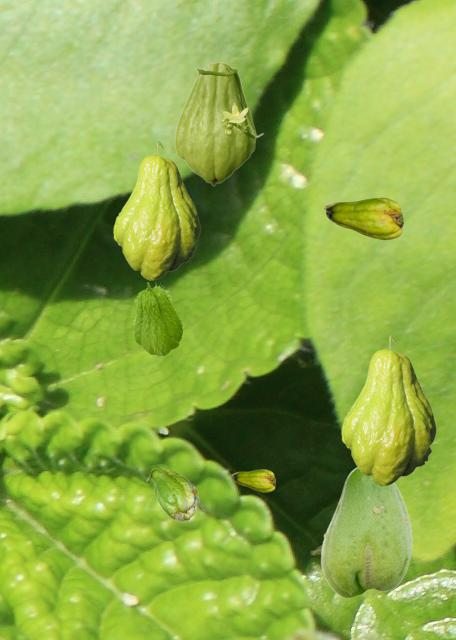sayote: (341, 334, 435, 485), (113, 141, 199, 279), (320, 467, 411, 597), (174, 62, 263, 185), (132, 281, 183, 355), (322, 197, 402, 239), (146, 464, 203, 521), (231, 469, 274, 491)
